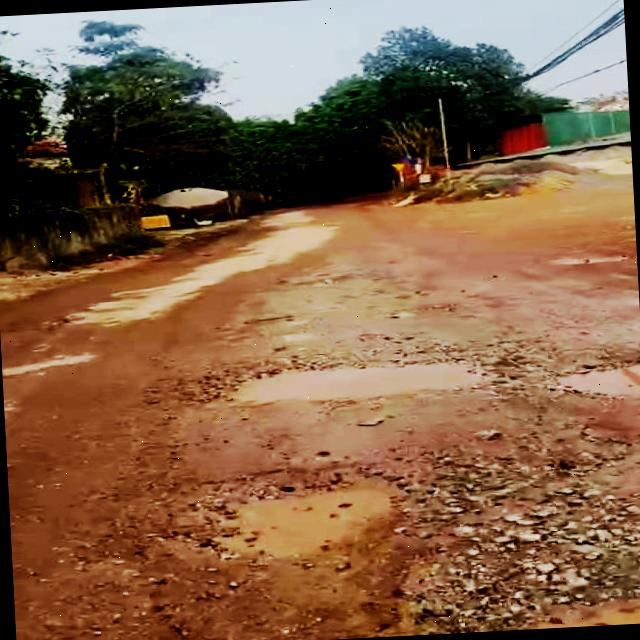pothole: (167, 456, 434, 566), (210, 350, 511, 413), (426, 575, 640, 635), (546, 347, 640, 416)
